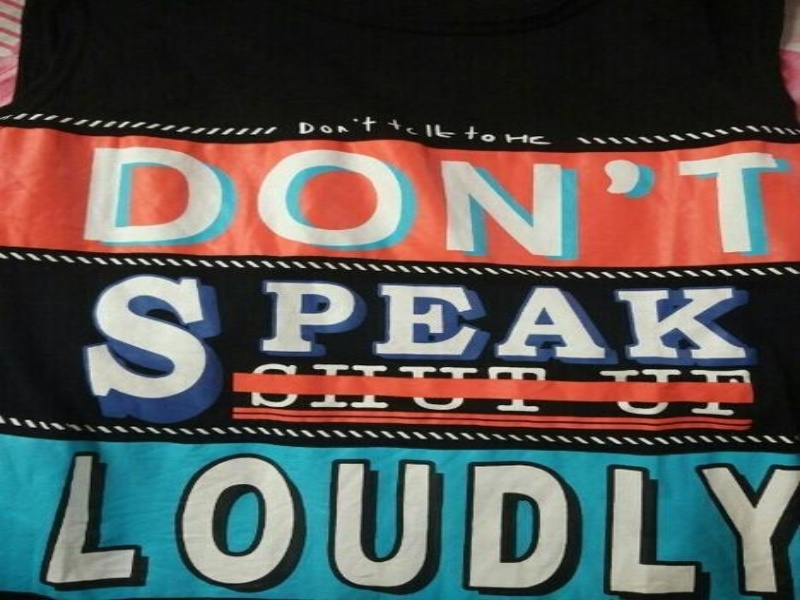vest: (3, 1, 795, 599)
